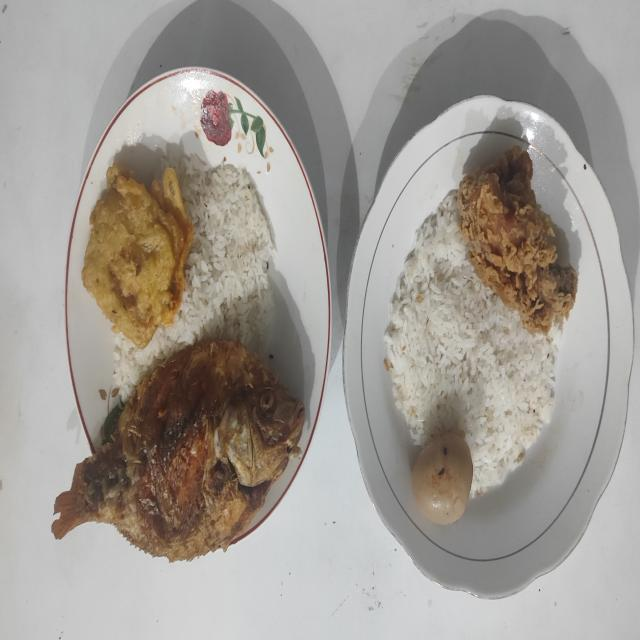ikan_mujair: (52, 340, 304, 560)
nasi_putih: (384, 190, 562, 497), (112, 154, 277, 400)
